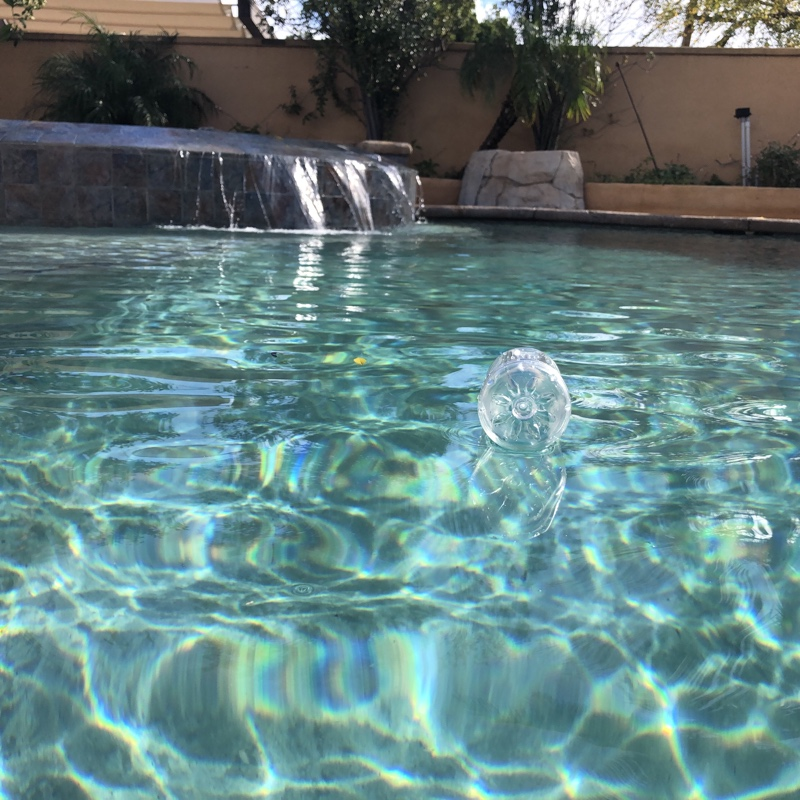Plastic Bottle: (472, 342, 574, 457)
